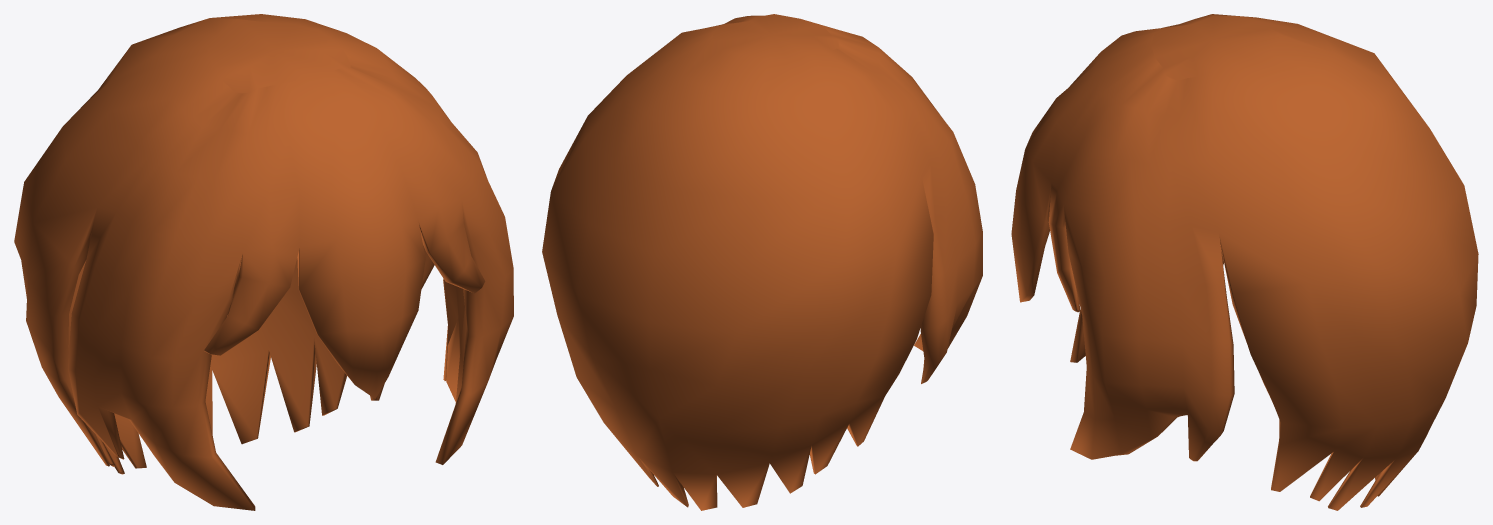
The model's file is female_hair_3.fbx.
The picture shows the model from 3 angles, left to right: view 1: azimuth 30°, elevation 25°; view 2: azimuth 150°, elevation 25°; view 3: azimuth 270°, elevation 25°; orthographic projection. The views are drawn at different scales.
Visible parts, largest first — view 1: Rin; view 2: Rin; view 3: Rin.
Boxes of the visible parts, x1,y1,x2,y2 form: Rin: (14,14,513,510); Rin: (542,14,982,510); Rin: (1011,14,1478,510).
Size of the model in its own units: 114 by 130 by 120.
